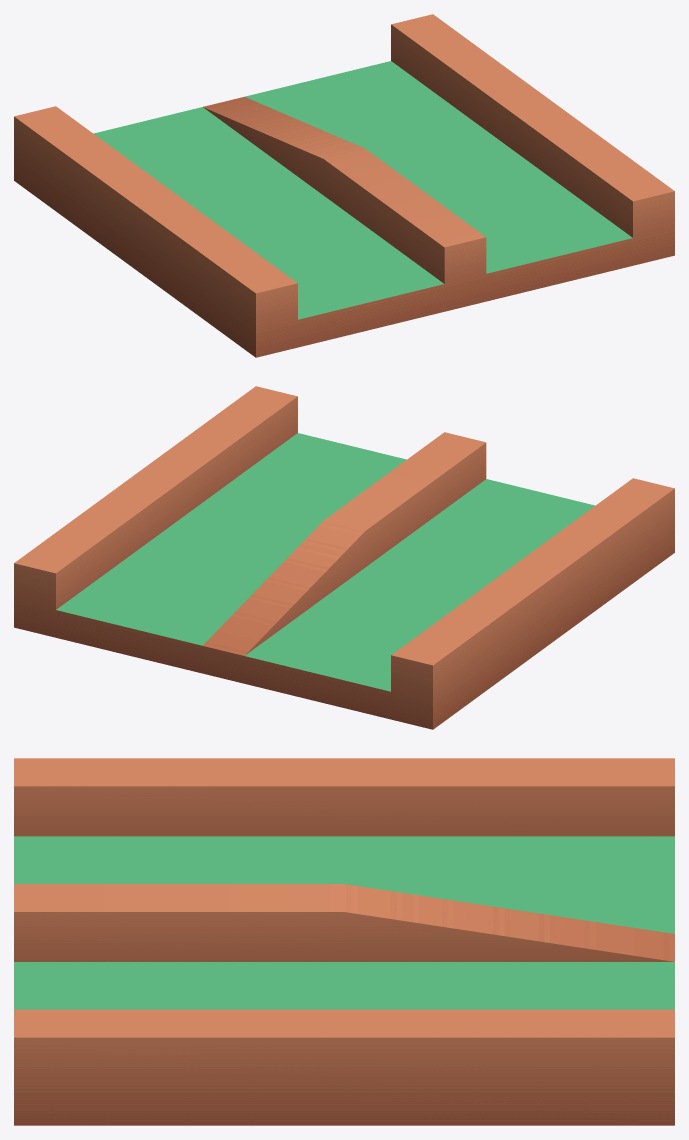
The model's file is split-start.glb.
3 views of the same model, one above another, from view 1: azimuth 30°, elevation 25°; view 2: azimuth 150°, elevation 25°; view 3: azimuth 270°, elevation 25° (orthographic). The views are drawn at different scales.
Parts seen in each view (by area): view 1: split-start; view 2: split-start; view 3: split-start.
Boxes of the visible parts, bbox=[...] form: split-start: bbox=[14, 14, 674, 357]; split-start: bbox=[14, 386, 674, 729]; split-start: bbox=[14, 758, 674, 1125].
Bounding box in the file's own units: 0.9999 × 0.1467 × 0.9999.
1 material, 1 textured.
